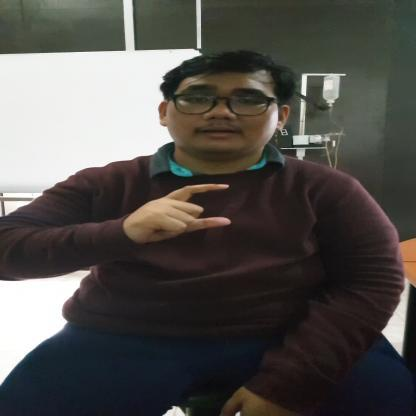C: (125, 183, 233, 240)
